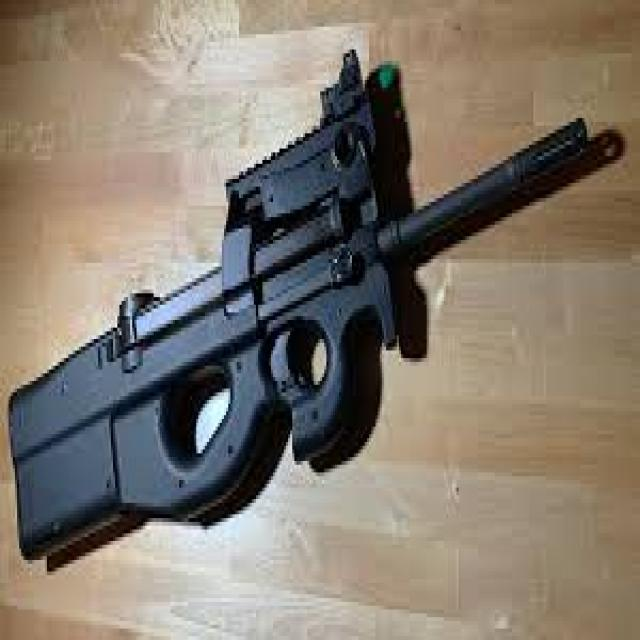Gun: (14, 76, 640, 597)
